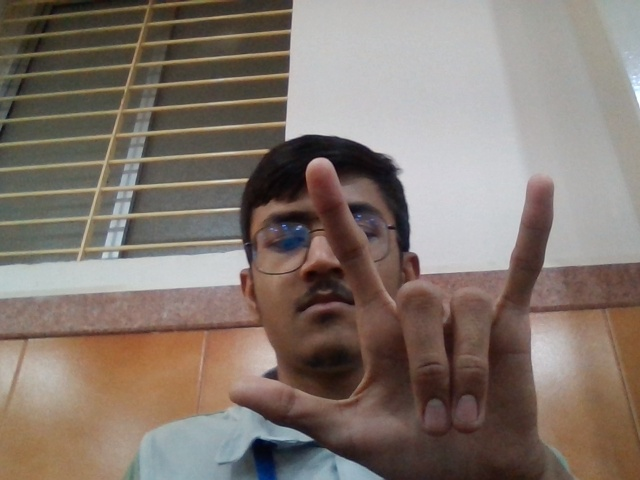I_Love_You: (227, 149, 568, 478)
